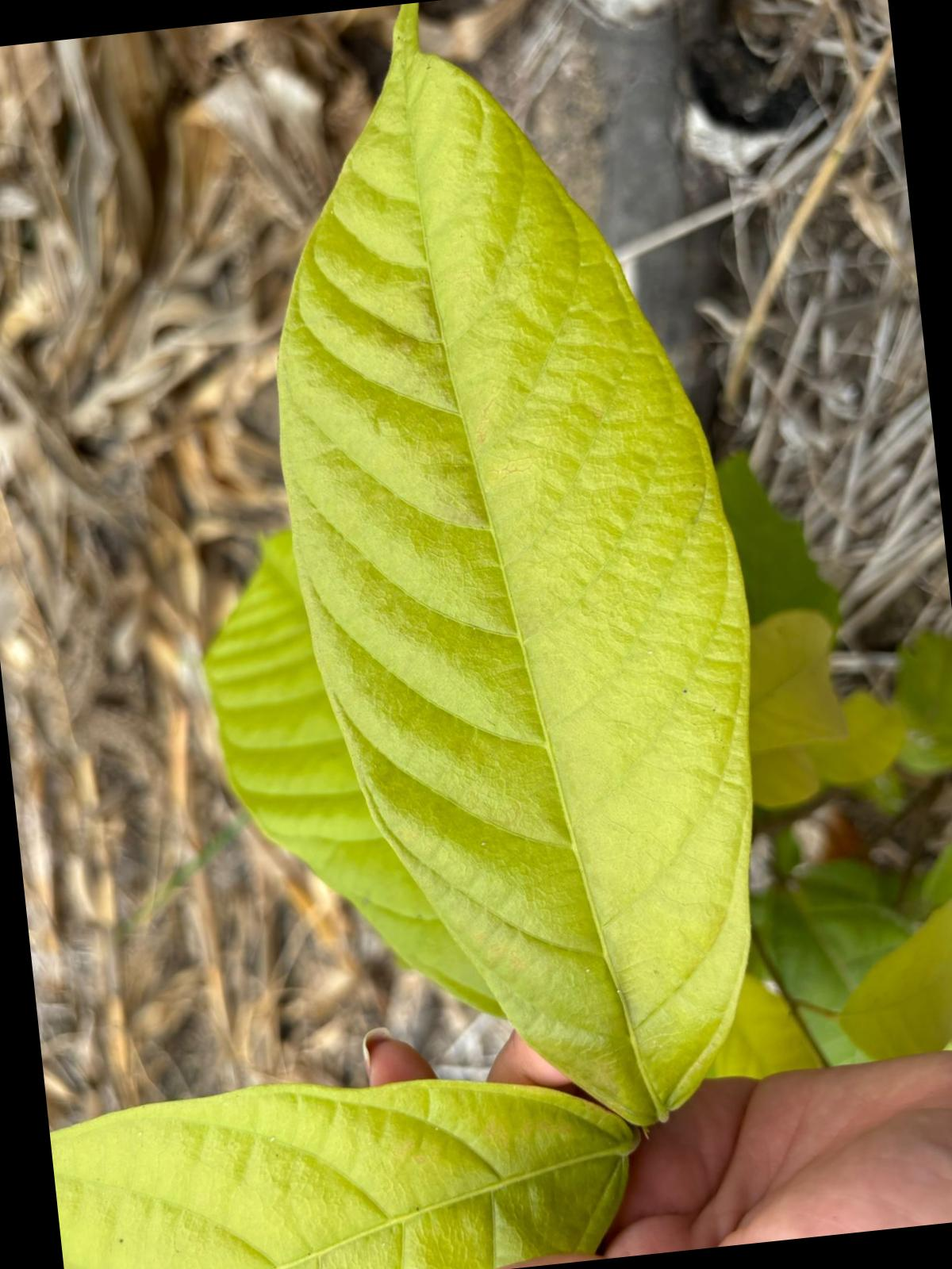Nitrogeno: (280, 4, 753, 1123), (51, 1079, 638, 1269)
